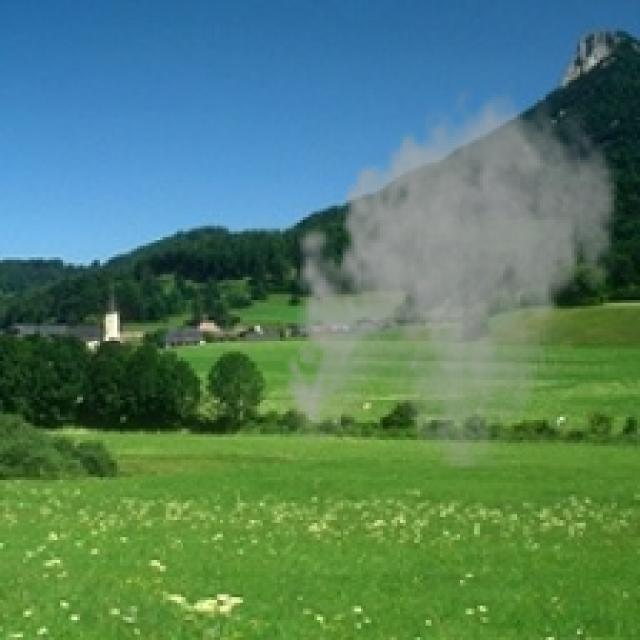smoke: (274, 80, 626, 471)
